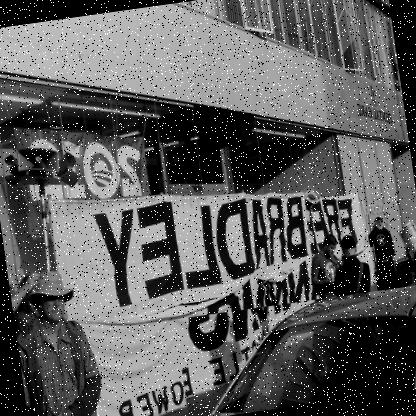Car: (173, 282, 415, 415)
